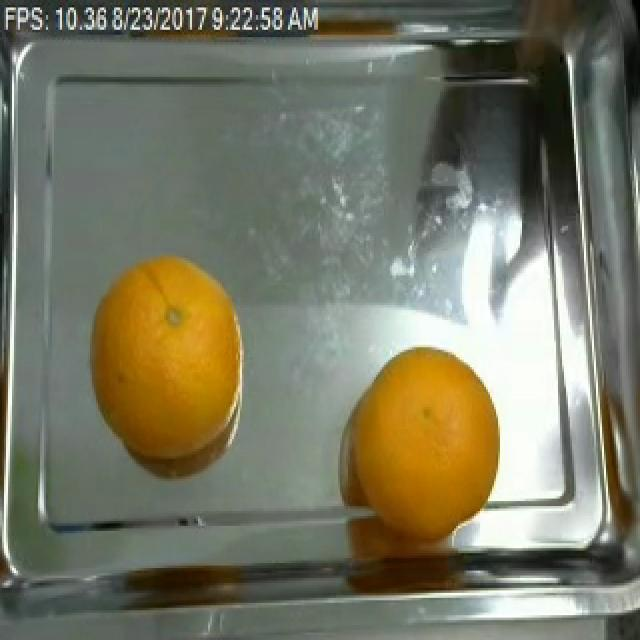Fruit: (330, 332, 508, 538)
